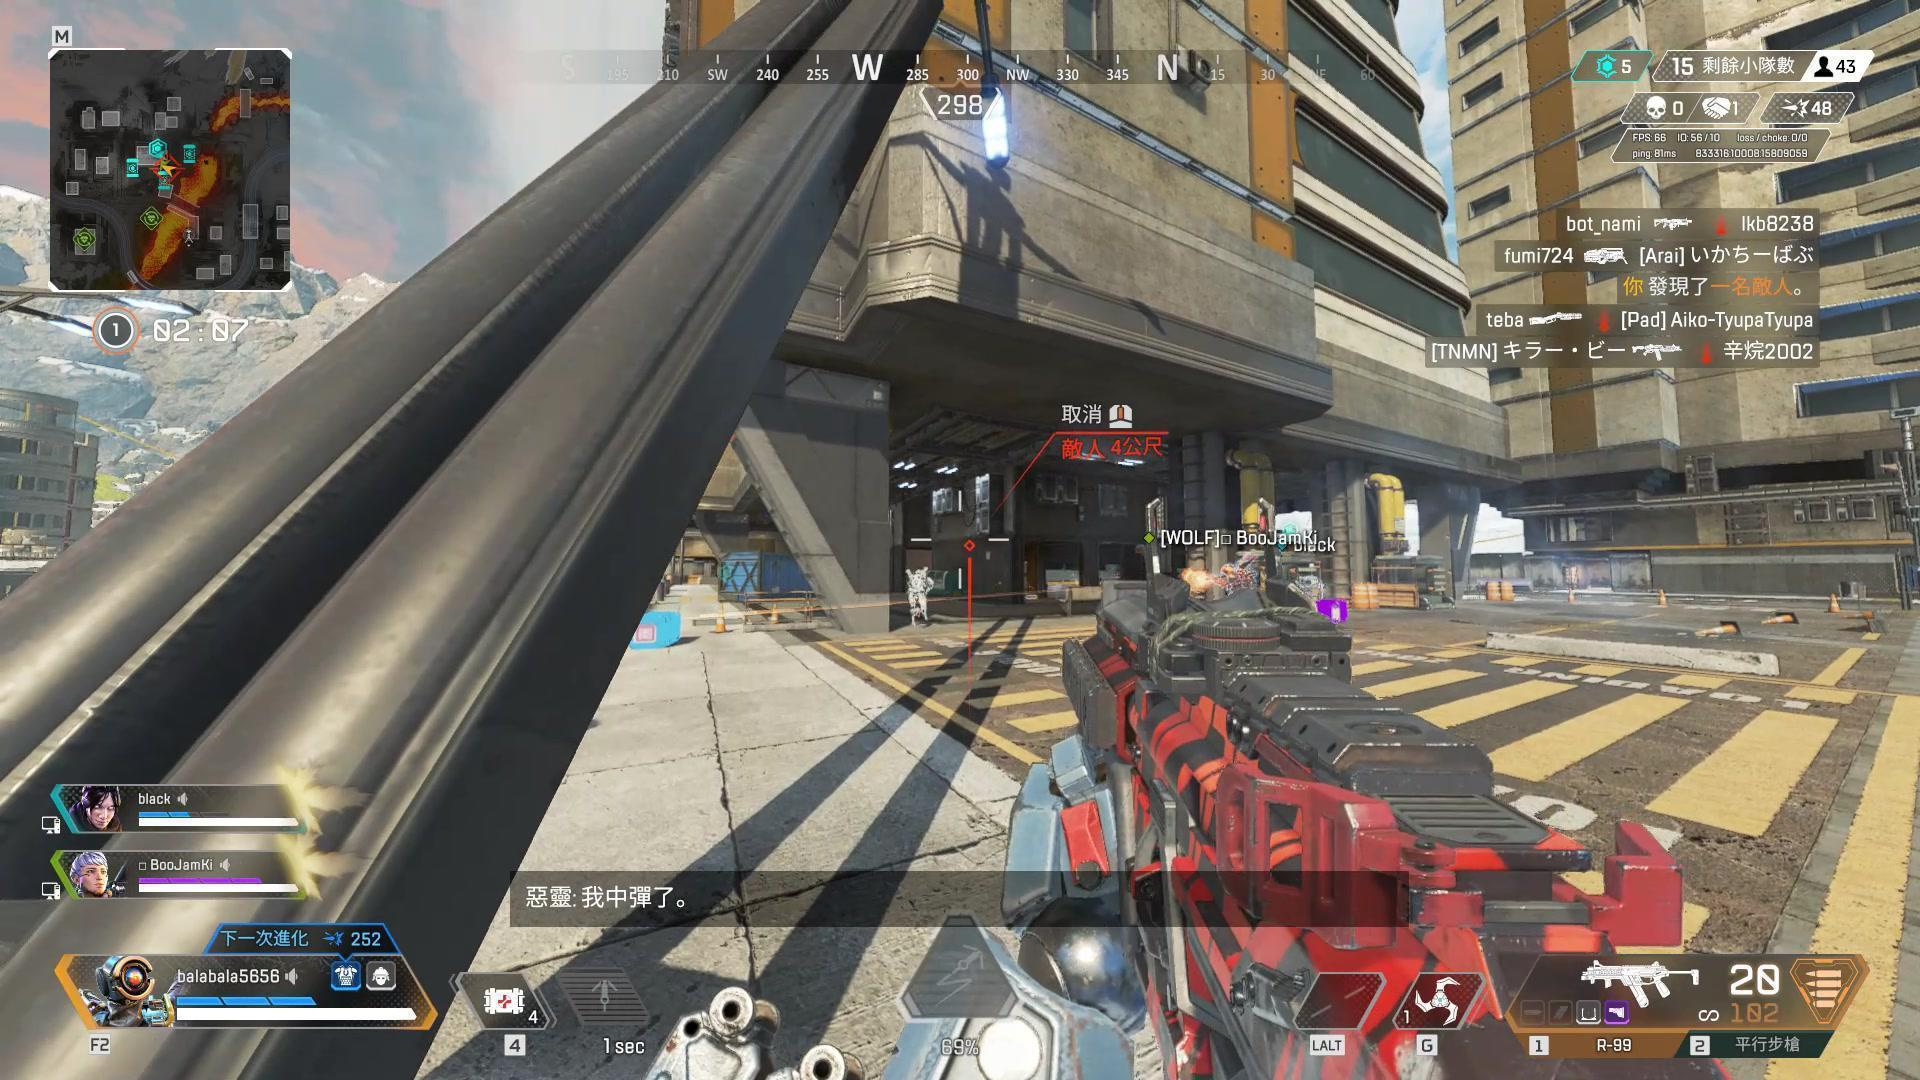avatar: (904, 565, 935, 631)
